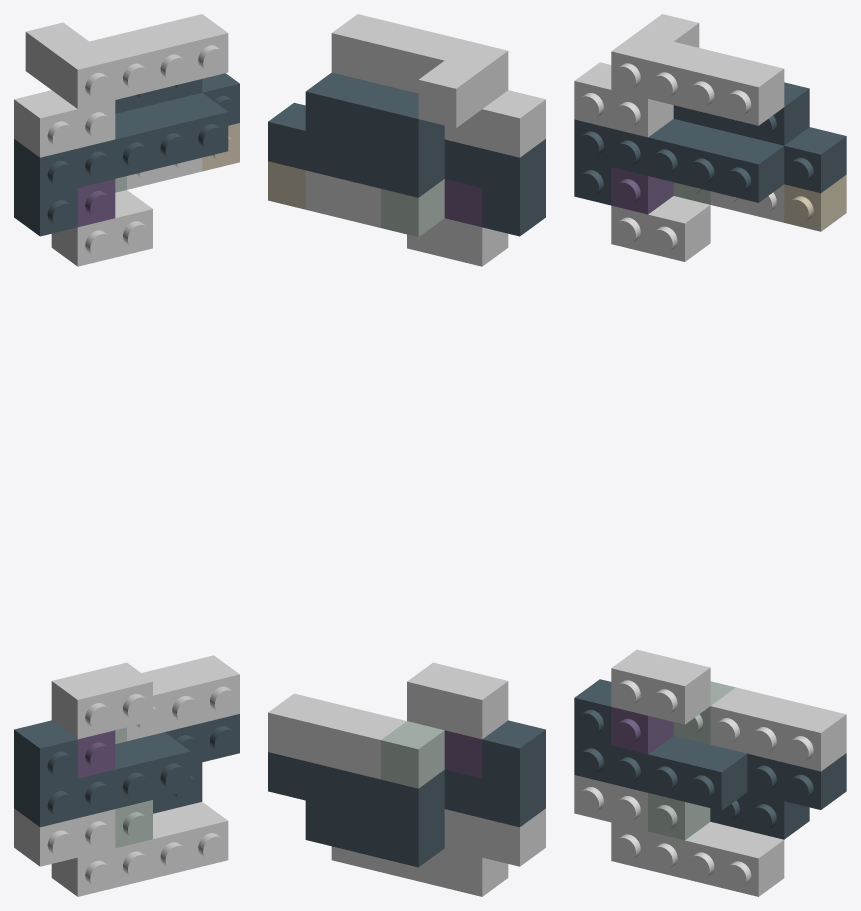
The model's file is full.glb.
The picture shows the model from 3 angles, left to right: view 1: azimuth 30°, elevation 25°; view 2: azimuth 150°, elevation 25°; view 3: azimuth 330°, elevation 25°; orthographic projection. The views are drawn at different scales.
Visible parts, largest first — view 1: world; view 2: world; view 3: world.
Part boxes in pixels (x1,y1,x2,y2): world: (14,14,239,896); world: (268,14,545,896); world: (574,14,846,896).
Size of the model in its own units: 48 by 168 by 21.
